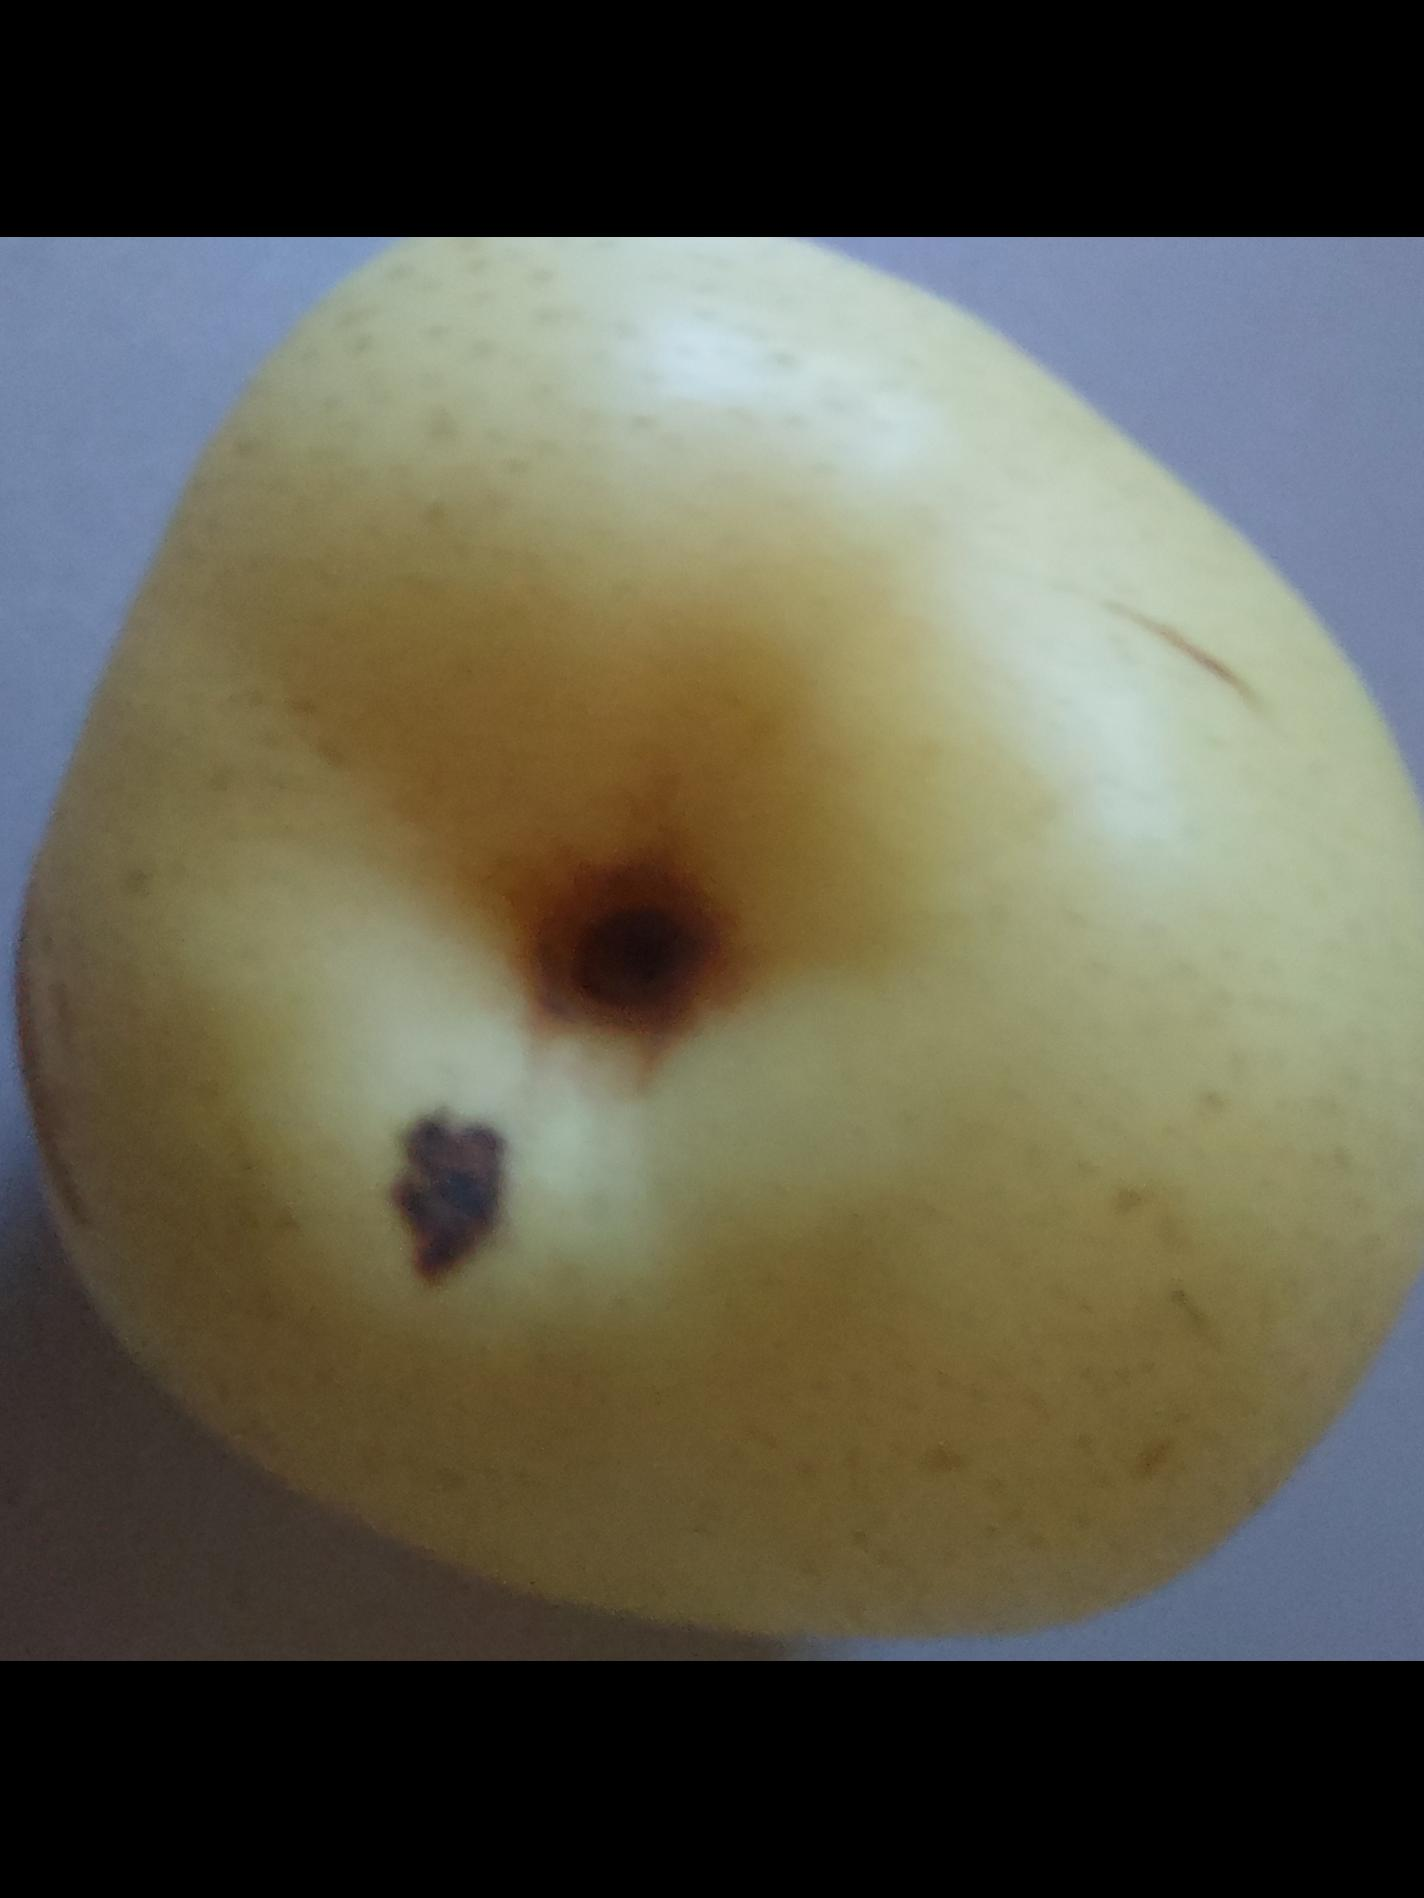Good Pear: (0, 236, 1424, 1656)
